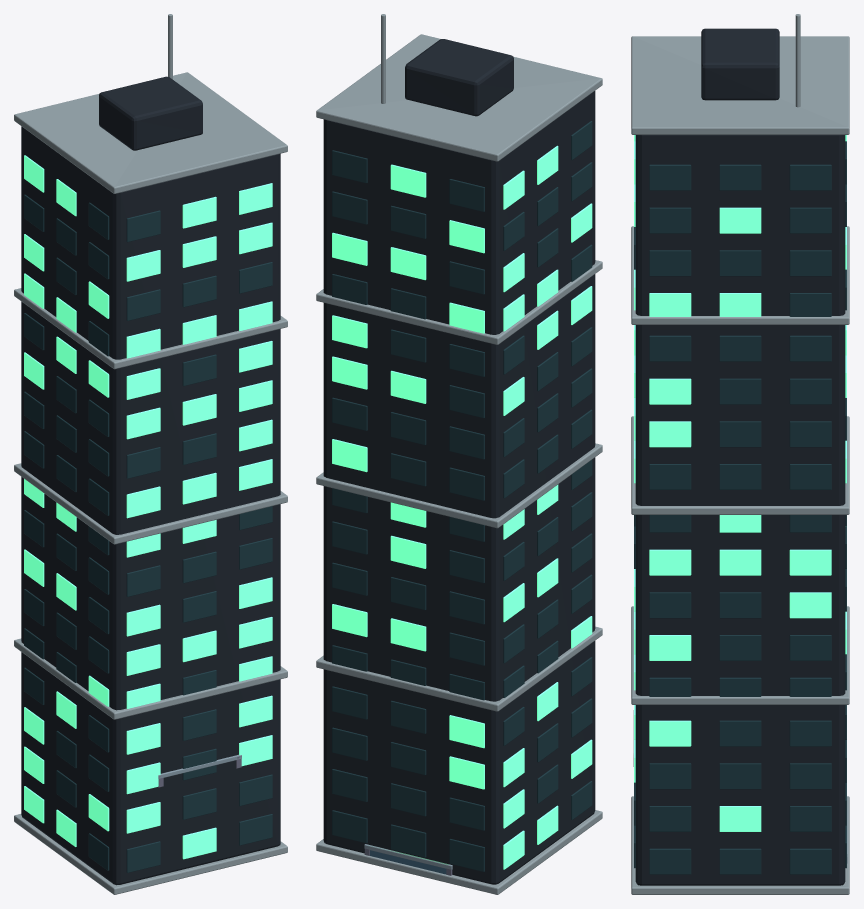
File: kit.glb
3 views of the same model, side by side, from view 1: azimuth 30°, elevation 25°; view 2: azimuth 150°, elevation 25°; view 3: azimuth 270°, elevation 25° (orthographic). The views are drawn at different scales.
Parts seen in each view (by area): view 1: building; view 2: building, stairs; view 3: building.
Part boxes in pixels (left/top/right/bottom): building: left=14, top=14, right=287, bottom=894; building: left=316, top=14, right=602, bottom=894; stairs: left=364, top=844, right=452, bottom=875; building: left=631, top=14, right=849, bottom=894.
Size of the model in its own units: 2.08 by 9.22 by 2.08.
